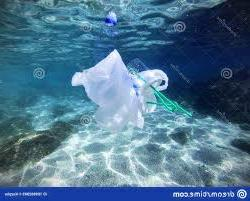Trash: (45, 35, 173, 157)
